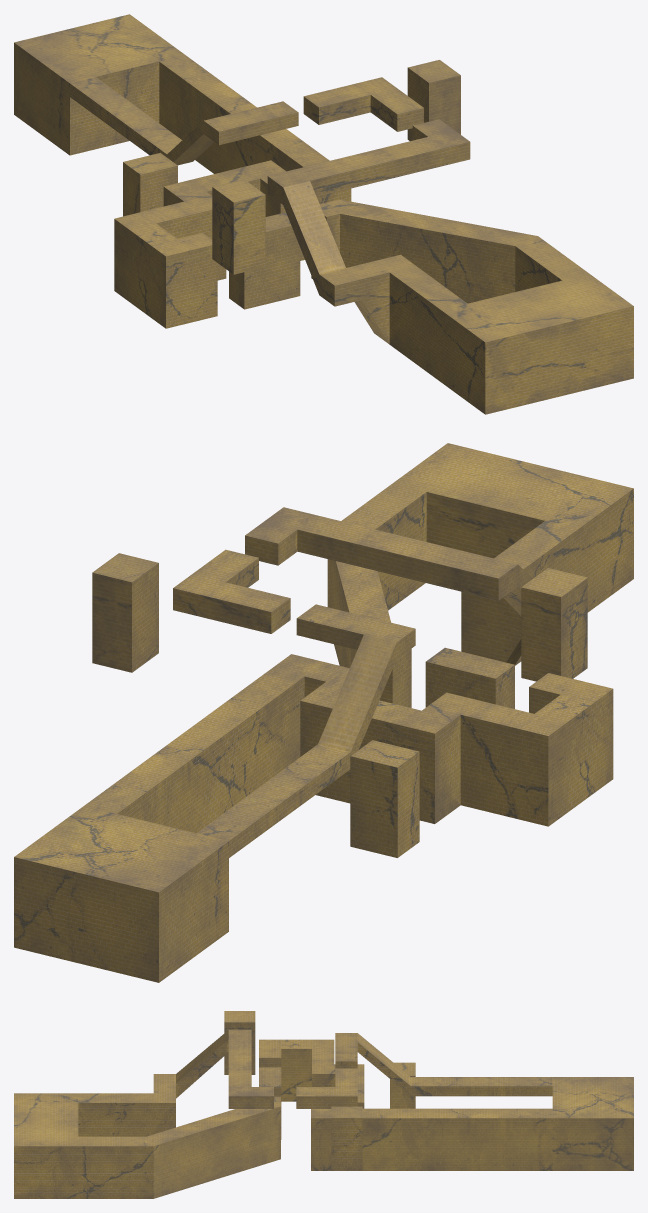
File: tutorial_stage0821.fbx
3 renders of one model, top to bottom at view 1: azimuth 30°, elevation 25°; view 2: azimuth 150°, elevation 25°; view 3: azimuth 270°, elevation 25°, orthographic. The views are drawn at different scales.
Parts seen in each view (by area): view 1: Plane.003, Plane.052, Plane.049, Plane.050, Plane.054, Plane.048, Plane.056, Plane.014, Plane.018, Plane.015, Plane.055, Plane.053 (+4 smaller); view 2: Plane.003, Plane.052, Plane.050, Plane.054, Plane.048, Plane.051, Plane.001, Plane.053, Plane.017, Plane.016, Plane.014, Plane.015 (+4 smaller); view 3: Plane.003, Plane.054, Plane.049, Plane.052, Plane.001, Plane.050, Plane.055, Plane.048, Plane.016, Plane.053, Plane.056, Plane.015 (+4 smaller).
Part boxes in pixels (x1,y1,x2,y2): Plane.003: [346, 236, 633, 414]; Plane.052: [14, 14, 184, 155]; Plane.049: [311, 199, 537, 303]; Plane.050: [114, 195, 226, 328]; Plane.054: [159, 55, 257, 173]; Plane.048: [294, 119, 470, 196]; Plane.056: [267, 169, 361, 306]; Plane.014: [212, 179, 265, 274]; Plane.018: [229, 212, 300, 309]; Plane.015: [303, 77, 423, 131]; Plane.055: [70, 77, 182, 157]; Plane.053: [167, 101, 298, 165]; Plane.003: [341, 443, 633, 665]; Plane.052: [14, 806, 228, 982]; Plane.050: [427, 673, 613, 826]; Plane.054: [84, 715, 240, 832]; Plane.048: [245, 507, 483, 592]; Plane.051: [300, 681, 460, 823]; Plane.001: [208, 654, 349, 800]; Plane.053: [296, 604, 415, 755]; Plane.017: [350, 740, 419, 857]; Plane.016: [92, 553, 158, 672]; Plane.014: [521, 568, 587, 681]; Plane.015: [173, 549, 290, 633]; Plane.003: [14, 1083, 175, 1198]; Plane.054: [408, 1108, 552, 1170]; Plane.049: [147, 1096, 280, 1198]; Plane.052: [552, 1077, 633, 1170]; Plane.001: [311, 1108, 408, 1170]; Plane.050: [259, 1039, 334, 1101]; Plane.055: [411, 1077, 552, 1096]; Plane.048: [228, 1039, 273, 1108]; Plane.016: [331, 1106, 362, 1170]; Plane.053: [335, 1033, 410, 1095]; Plane.056: [153, 1029, 251, 1098]; Plane.015: [296, 1068, 357, 1108].
Size of the model in its own units: 380 by 140 by 812.
